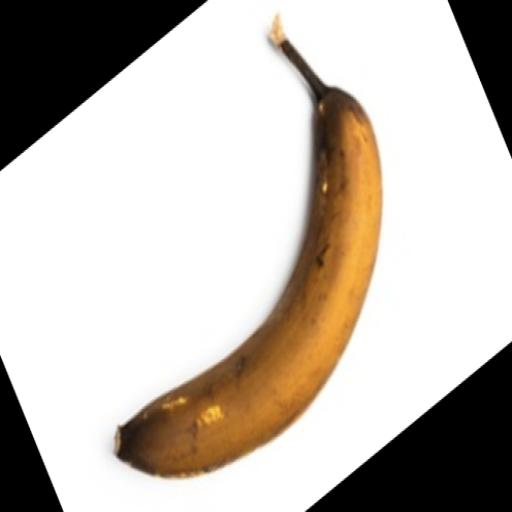banana-overripe: (113, 8, 404, 507)
